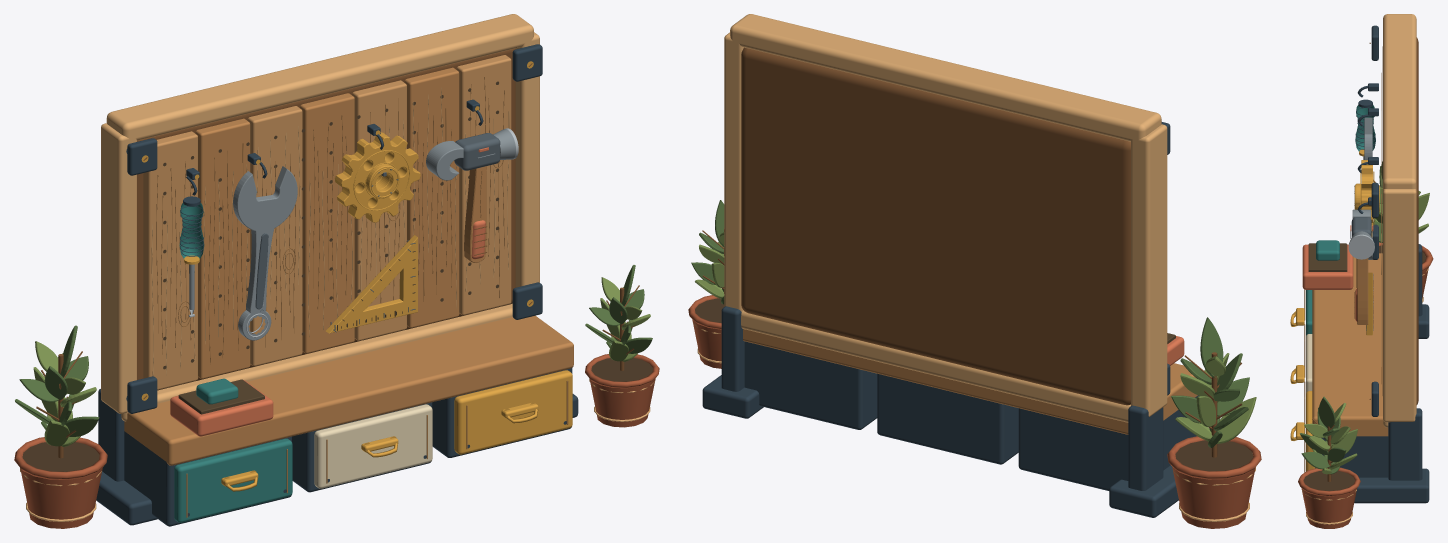
Rendered from before-simplification.glb.
The picture shows the model from 3 angles, left to right: view 1: azimuth 30°, elevation 25°; view 2: azimuth 150°, elevation 25°; view 3: azimuth 270°, elevation 25°; orthographic projection. The views are drawn at different scales.
Parts seen in each view (by area): view 1: timber, plank, edge, brass, navy, teal, pot (×2), cream, grain, steel, darkWood, grainLight (+4 smaller); view 2: darkWood, edge, navy, pot (×2), timber, soil, Leaf 8, Leaf 1; view 3: edge, timber, navy, pot (×2), brass, coral, teal, darkWood, soil, shadow, steel, steelEdge (+11 smaller).
Part boxes in pixels (box(x1,y1,x2,y2)): timber: box(124, 67, 573, 465); plank: box(143, 55, 511, 389); edge: box(101, 14, 539, 421); brass: box(141, 61, 572, 491); navy: box(96, 44, 578, 526); teal: box(174, 203, 292, 522); pot (×2): box(14, 354, 659, 528); cream: box(314, 404, 432, 488); grain: box(156, 77, 568, 517); steel: box(189, 129, 515, 340); darkWood: box(137, 48, 532, 398); grainLight: box(151, 88, 509, 375); darkWood: box(741, 47, 1130, 405); edge: box(724, 14, 1167, 422); navy: box(702, 122, 1199, 517); pot (×2): box(688, 295, 1261, 528); timber: box(743, 329, 1197, 434); soil: box(1175, 440, 1253, 471); Leaf 8: box(1200, 317, 1223, 377); Leaf 1: box(1217, 397, 1256, 443); edge: box(1383, 14, 1416, 427); timber: box(1312, 68, 1388, 436); navy: box(1315, 25, 1429, 503); pot (×2): box(1298, 242, 1433, 528); brass: box(1290, 149, 1379, 471); coral: box(1302, 225, 1373, 321); teal: box(1306, 105, 1375, 335); darkWood: box(1354, 37, 1418, 404); soil: box(1303, 470, 1355, 490); shadow: box(1308, 243, 1373, 324); steel: box(1350, 117, 1372, 259); steelEdge: box(1348, 234, 1374, 259).
Bounding box in the file's own units: 2.04 × 1.25 × 0.5082.
